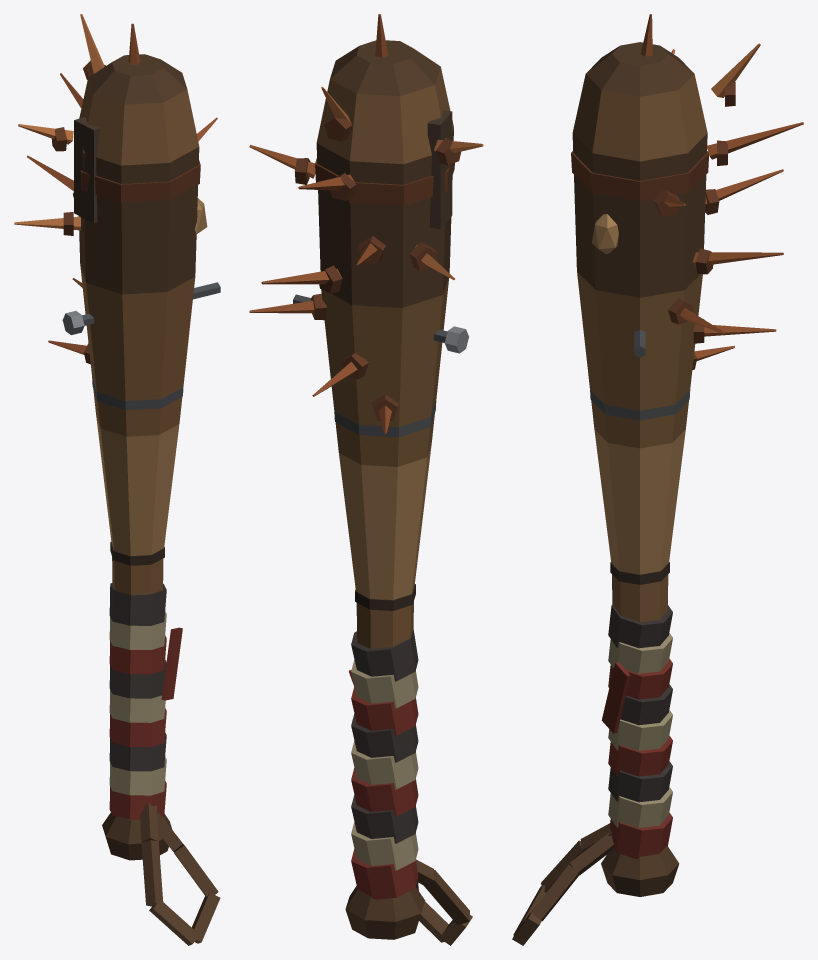
File: melee_spiked_club.fbx
The picture shows the model from 3 angles, left to right: view 1: azimuth 30°, elevation 25°; view 2: azimuth 150°, elevation 25°; view 3: azimuth 270°, elevation 25°; orthographic projection. The views are drawn at different scales.
Visible parts, largest first — view 1: melee_spiked_club; view 2: melee_spiked_club; view 3: melee_spiked_club.
Part boxes in pixels (left/top/right/bottom): melee_spiked_club: left=14, top=14, right=220, bottom=945; melee_spiked_club: left=249, top=14, right=483, bottom=945; melee_spiked_club: left=512, top=14, right=803, bottom=945.
Bounding box in the file's own units: 0.2295 × 0.9414 × 0.268.
